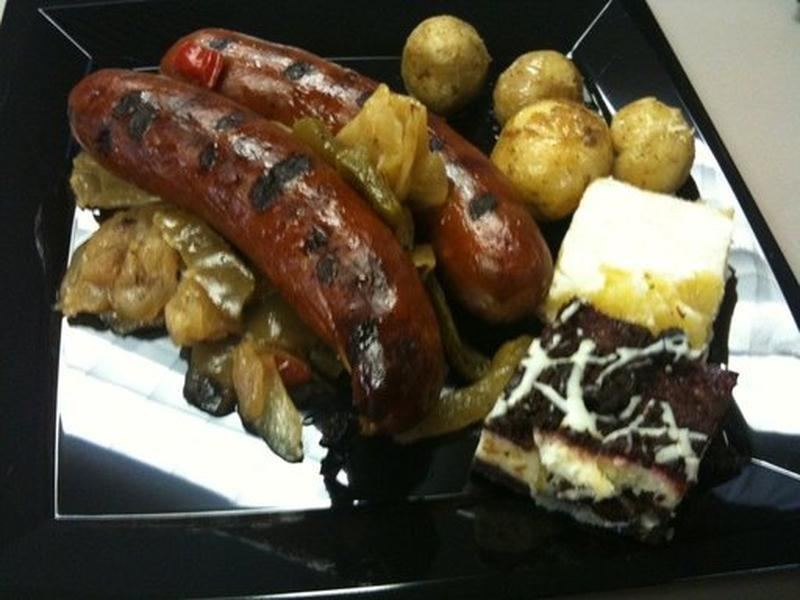hot_dog: (65, 11, 568, 475)
